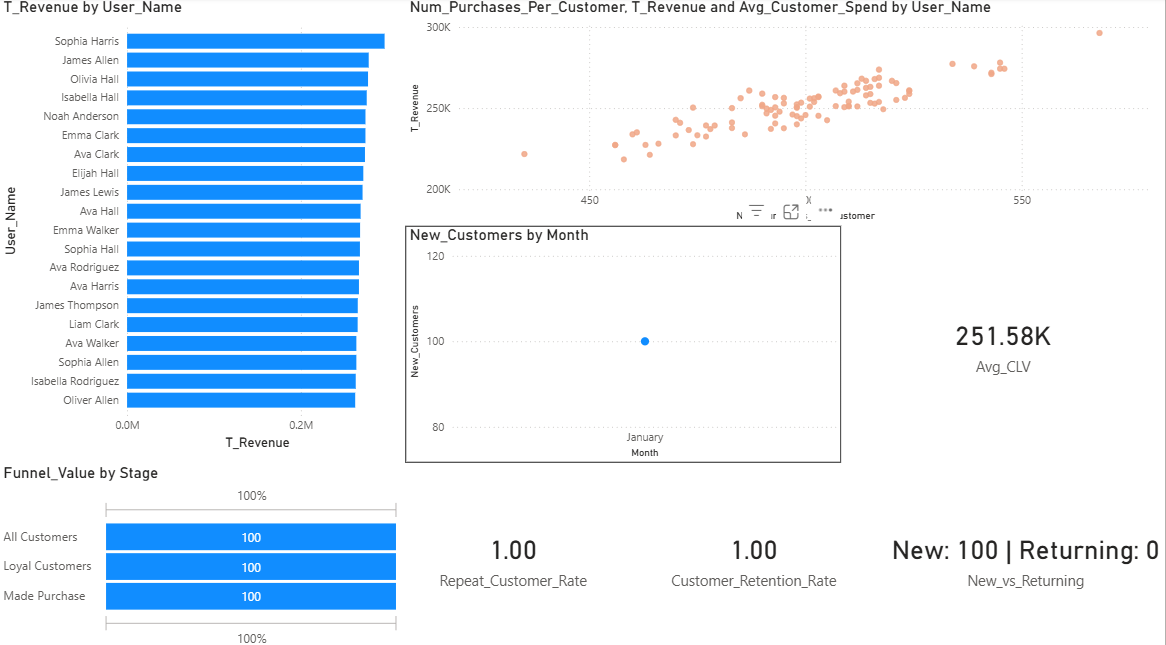

The page's visual inventory and layout, read from the dashboard file:
{"tool":"powerbi","page":{"name":"Page 3","canvas":[1280,720],"ordinal":2},"visuals":[{"type":"clusteredBarChart","fields":{"Category":["cleaned_ecommerce_data.User_Name"],"Y":["Date_Table.T_Revenue"]},"box":[0,0,446,502.2],"z":0},{"type":"scatterChart","fields":{"X":["Date_Table.Num_Purchases_Per_Customer"],"Y":["Date_Table.T_Revenue"],"Size":["Date_Table.Avg_Customer_Spend"],"Category":["cleaned_ecommerce_data.User_Name"]},"box":[446,0,834.3,251.1],"z":1},{"type":"lineChart","fields":{"Y":["Date_Table.New_Customers"],"Category":["Date_Table.Month"]},"box":[446,251.1,478.9,260.7],"z":2},{"type":"funnel","fields":{"Y":["Customer_Funnel_Stages.Funnel_Value"],"Category":["Customer_Funnel_Stages.Stage"]},"box":[0,512,446,208],"z":3},{"type":"card","fields":{"Values":["Customer_Funnel_Stages.Repeat_Customer_Rate"]},"box":[446,511.8,237.4,208.6],"z":4},{"type":"card","fields":{"Values":["Date_Table.Customer_Retention_Rate"]},"box":[683.4,511.8,290.9,208.6],"z":5},{"type":"card","fields":{"Values":["Customer_Funnel_Stages.Avg_CLV"]},"box":[924.9,251.1,355.4,260.7],"z":6},{"type":"card","fields":{"Values":["Customer_Funnel_Stages.New_vs_Returning"]},"box":[974.3,511.8,306,208.6],"z":7}]}

Visuals, with their boxes in screenshot pixels (x1, y1, x2, y2), scaled from the page's 1280x720 canvas onto the 1166x645 screenshot:
clusteredBarChart - cleaned_ecommerce_data.User_Name x Date_Table.T_Revenue: bbox(0, 0, 406, 450)
scatterChart - Date_Table.Num_Purchases_Per_Customer x Date_Table.T_Revenue: bbox(406, 0, 1165, 225)
lineChart - Date_Table.New_Customers x Date_Table.Month: bbox(406, 225, 843, 458)
funnel - Customer_Funnel_Stages.Funnel_Value x Customer_Funnel_Stages.Stage: bbox(0, 459, 406, 644)
card - Customer_Funnel_Stages.Repeat_Customer_Rate: bbox(406, 458, 623, 644)
card - Date_Table.Customer_Retention_Rate: bbox(623, 458, 888, 644)
card - Customer_Funnel_Stages.Avg_CLV: bbox(843, 225, 1165, 458)
card - Customer_Funnel_Stages.New_vs_Returning: bbox(888, 458, 1165, 644)
